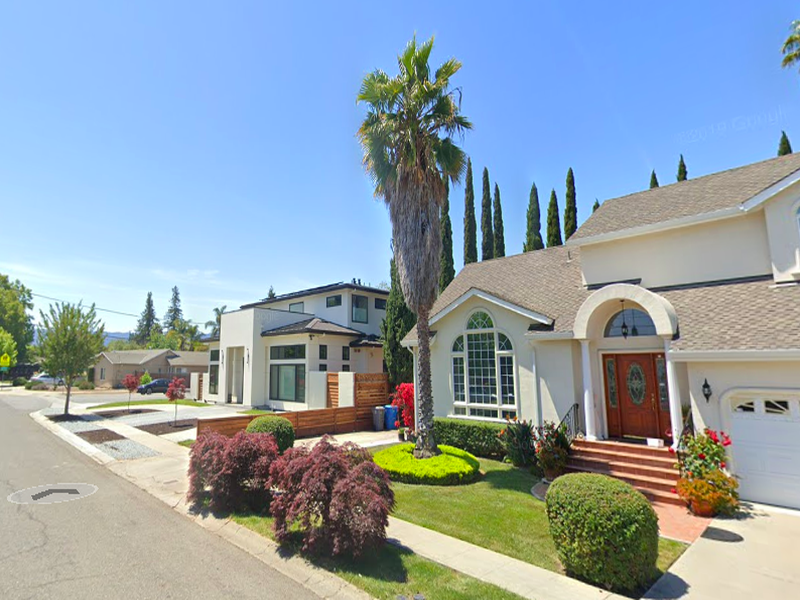tree: (354, 28, 474, 460)
